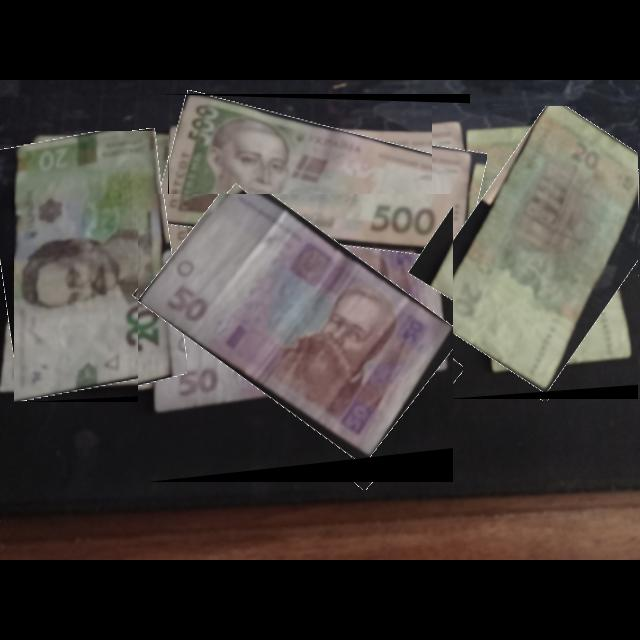20uah: (432, 106, 639, 394), (14, 131, 165, 403)
500uah: (157, 95, 471, 286)
50uah: (139, 194, 454, 463)
